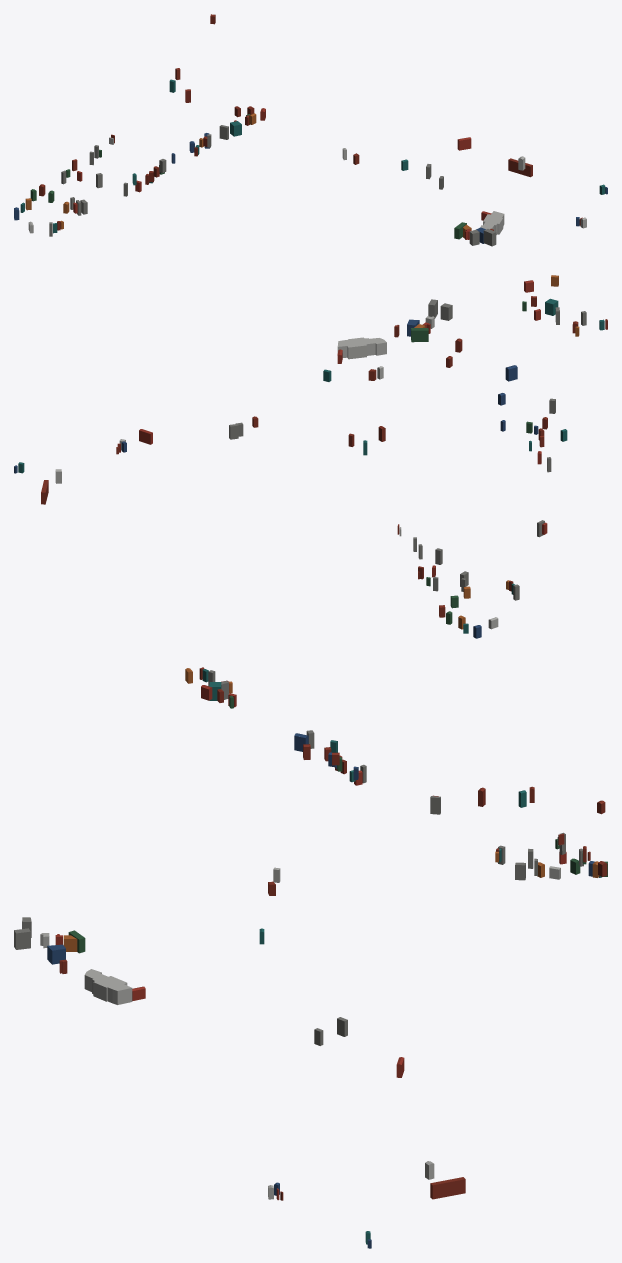
The model's file is near-15-27367-14875.693b488c.glb.
3 renders of one model, top to bottom at view 1: azimuth 30°, elevation 25°; view 2: azimuth 150°, elevation 25°; view 3: azimuth 270°, elevation 25°, orthographic. The views are drawn at different scales.
Bounding box in the file's own units: 1152 × 502 × 883.
